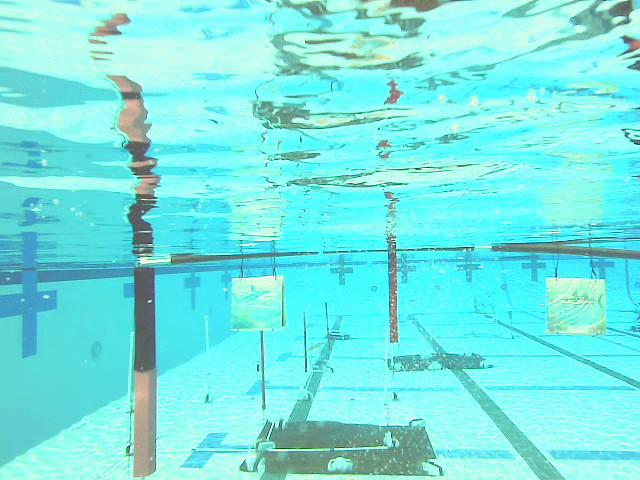black_poster: (304, 313, 308, 372), (325, 302, 329, 342)
divider: (389, 244, 397, 342)
left_gate_poster: (133, 267, 155, 477)
shark: (232, 276, 285, 331)
swordfish: (546, 277, 606, 334)
white_poster: (125, 331, 133, 455), (204, 315, 211, 402)
